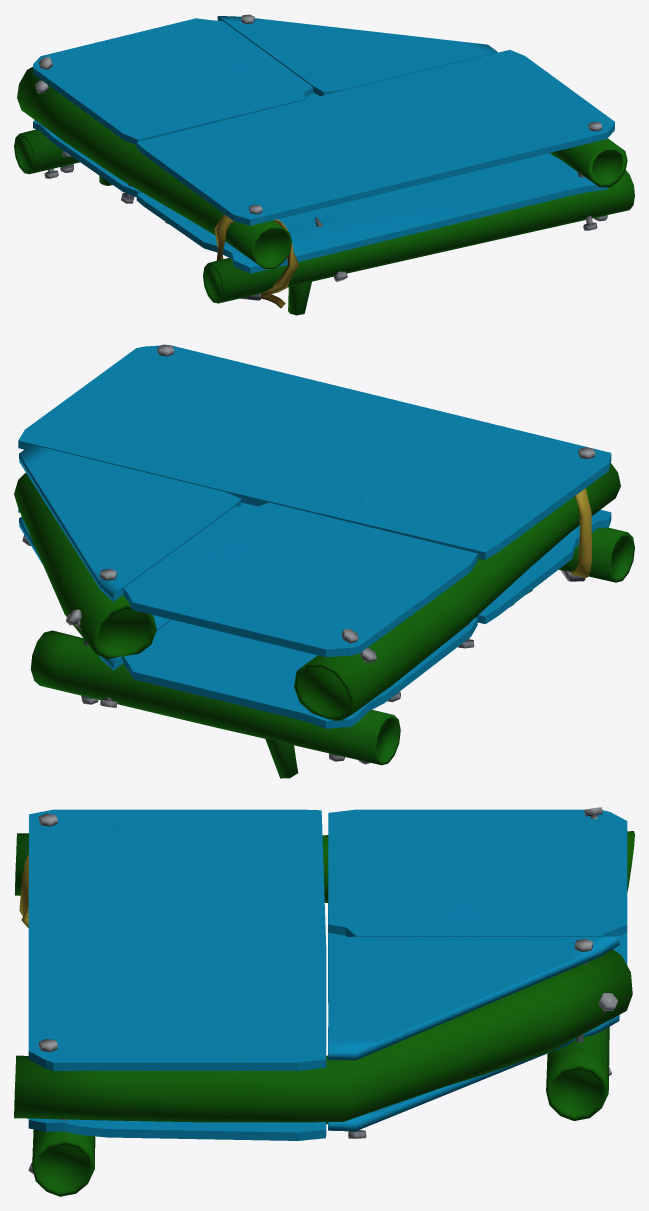
Rendered from RaftFloorWedge1.fbx.
The picture shows the model from 3 angles, top to bottom: view 1: azimuth 30°, elevation 25°; view 2: azimuth 150°, elevation 25°; view 3: azimuth 270°, elevation 25°; orthographic projection. The views are drawn at different scales.
Parts seen in each view (by area): view 1: Cube.003; view 2: Cube.003; view 3: Cube.003.
Part boxes in pixels (left/top/right/bottom): Cube.003: left=14, top=14, right=634, bottom=315; Cube.003: left=14, top=344, right=634, bottom=778; Cube.003: left=14, top=807, right=634, bottom=1196.
Bounding box in the file's own units: 6.43 × 2.04 × 6.21.
